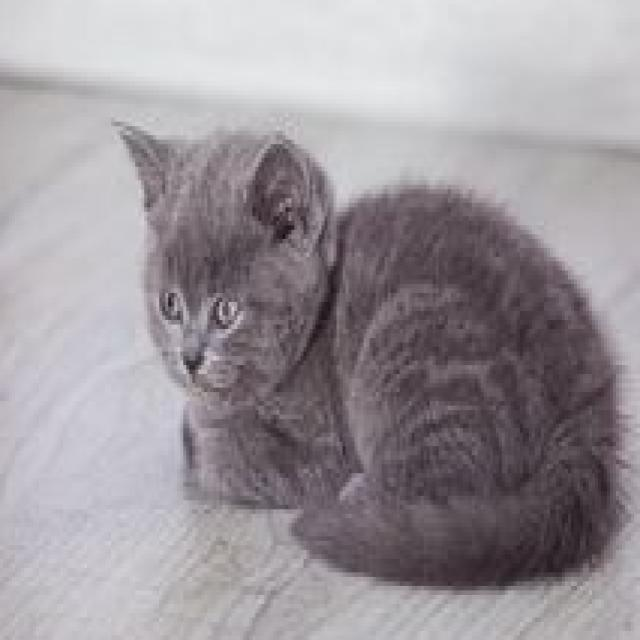Scottish Fold: (106, 104, 628, 597)
